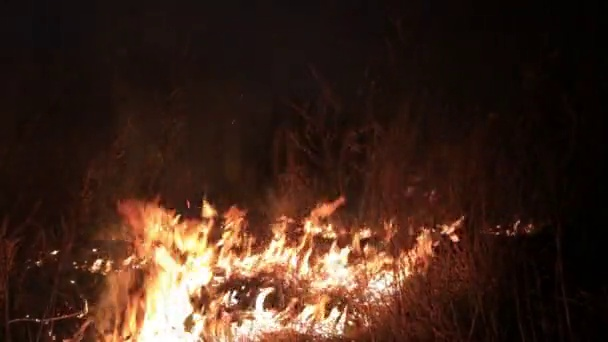fire: (110, 203, 460, 342)
